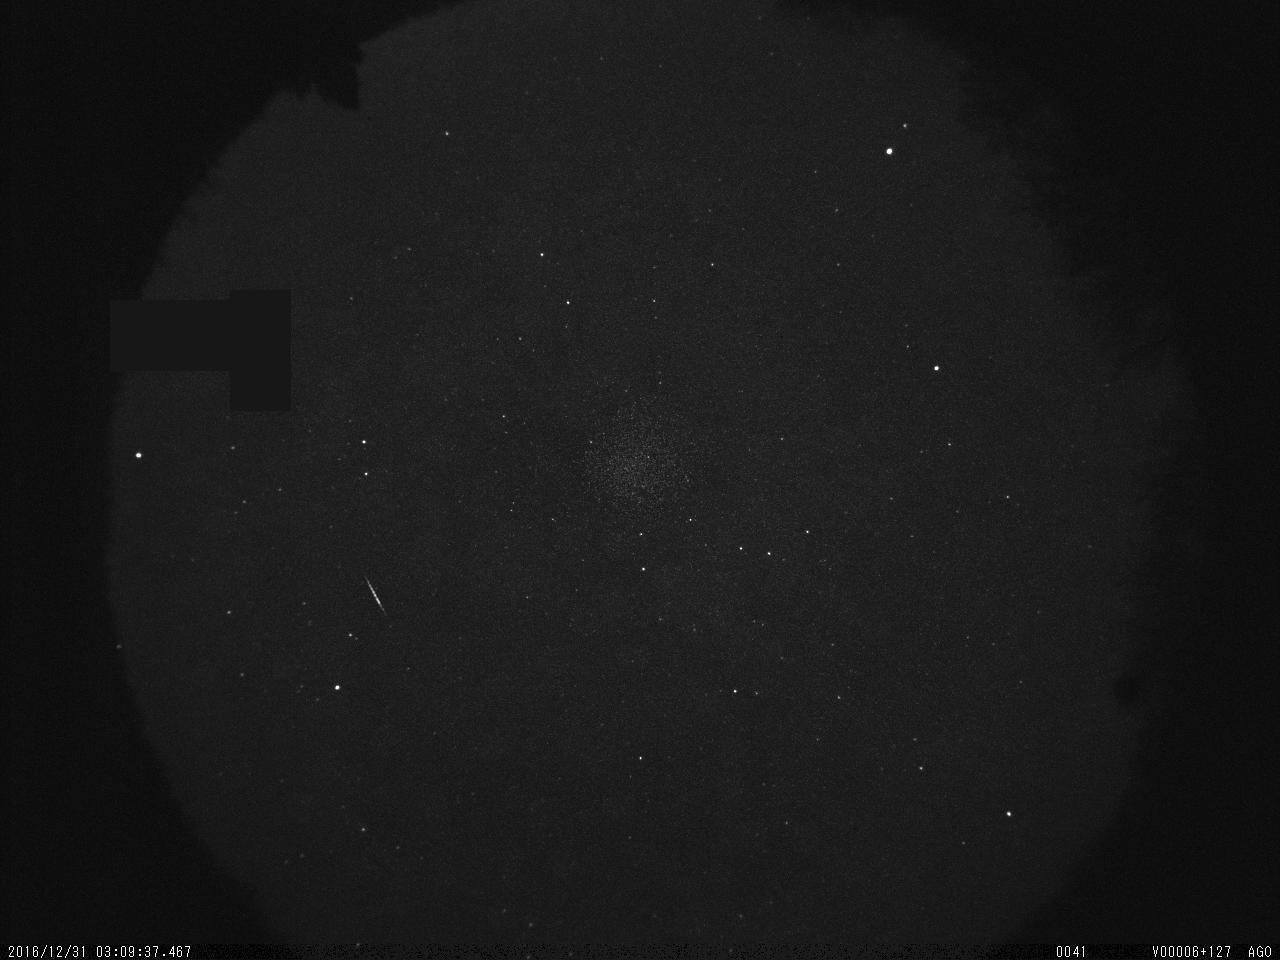Meteor: (364, 571, 388, 617)
